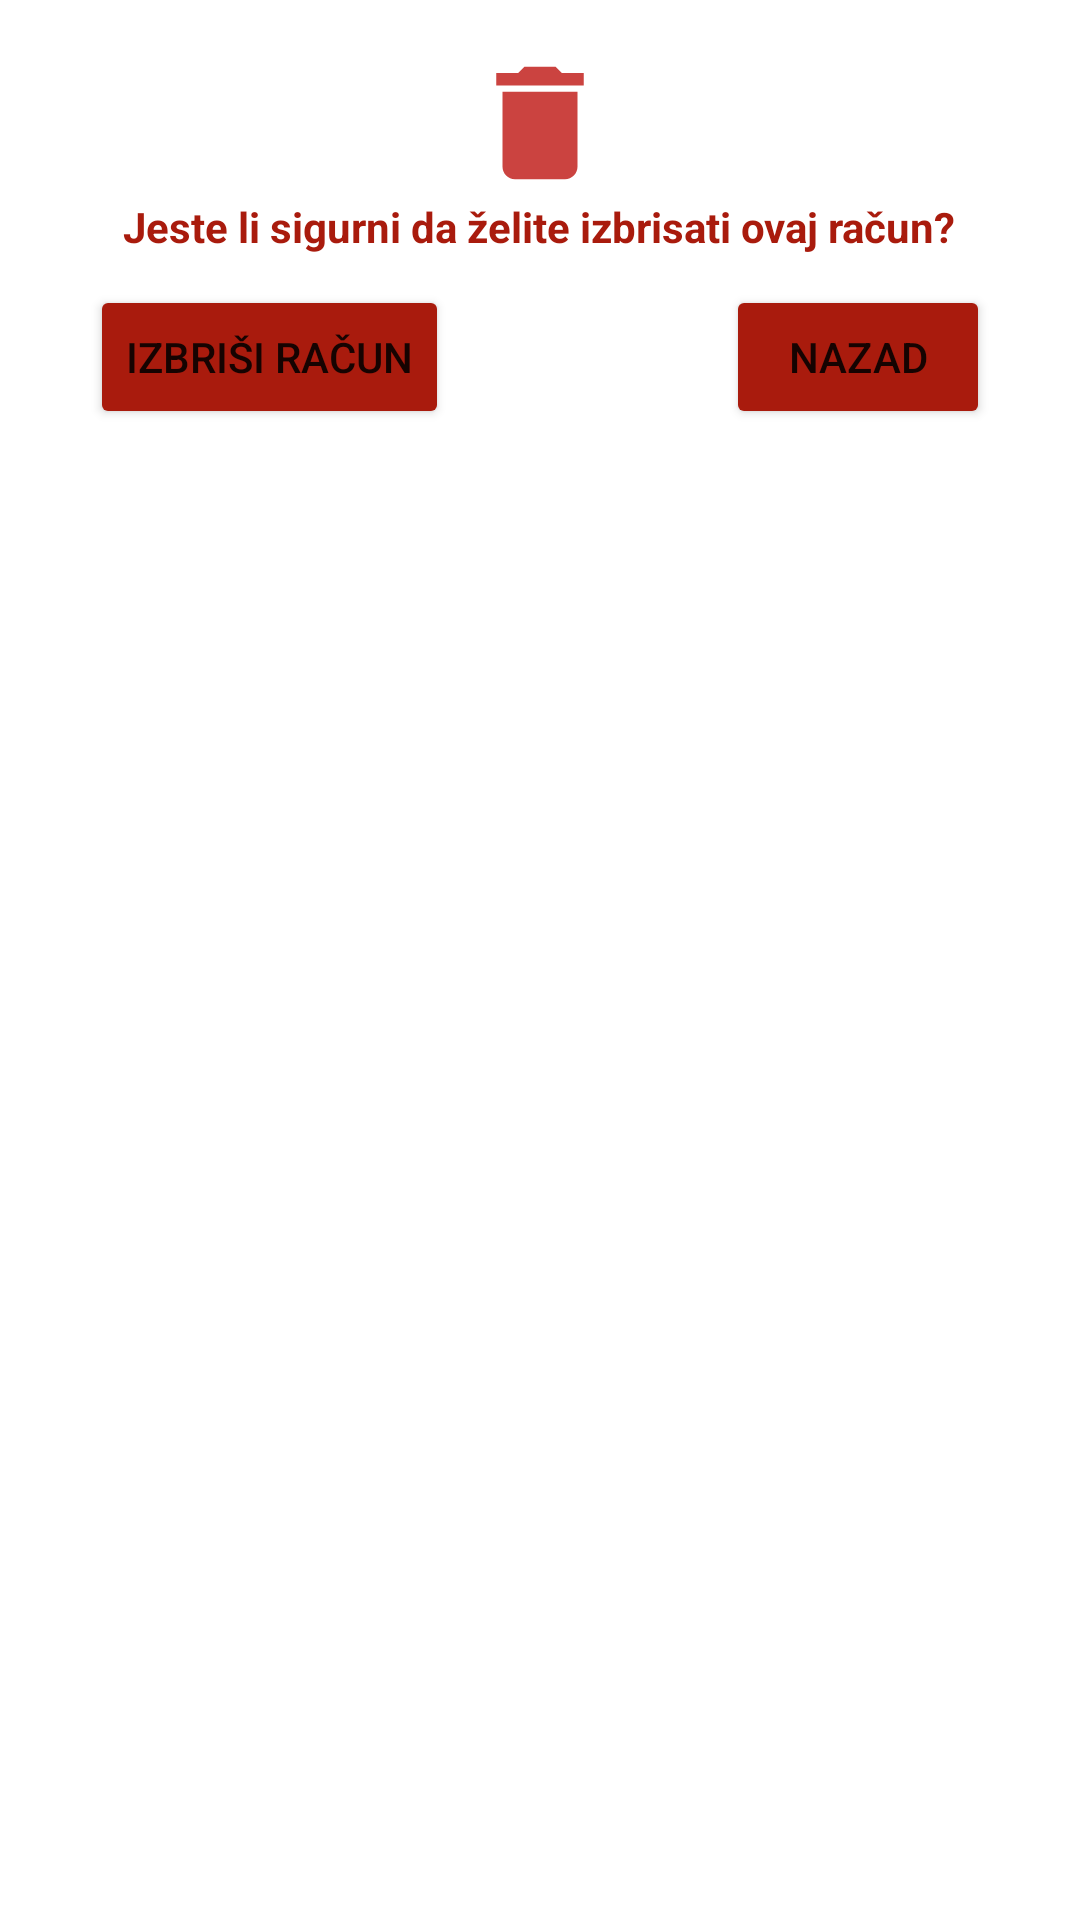

Named icons in this screenshot (1080 × 1920) and their bounding boxes, {"x1": x1, "y1": y1, "x2": x2, "y2": y2}:
delete: {"x1": 496, "y1": 66, "x2": 584, "y2": 180}
